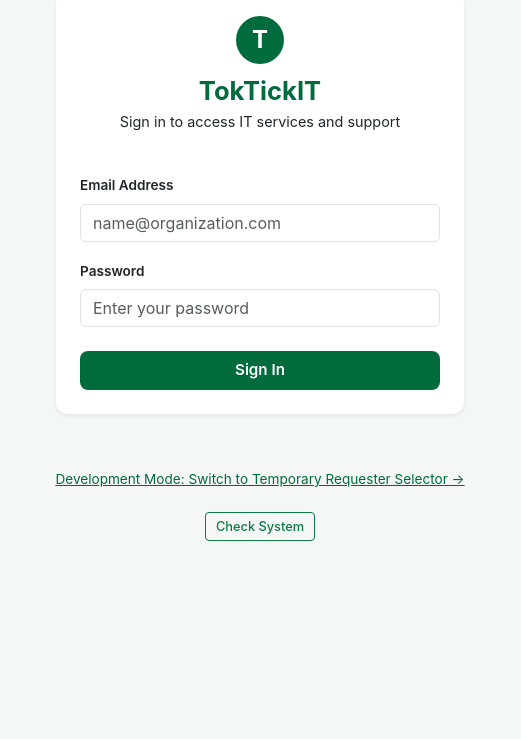
Test case: App › shows Online and the seeded categories on success
Click the button "Check System" at (260, 527), box x1=205 y1=512 x2=315 y2=542
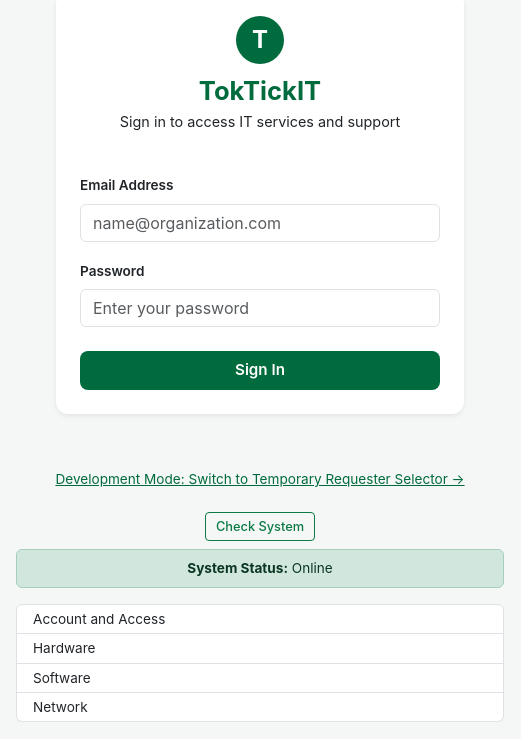
Now the text "System Status:" is shown, box x1=187 y1=560 x2=288 y2=576
Now the text "System Status: Online" is shown, box x1=16 y1=550 x2=504 y2=588
Now the list item "Account and Access" is shown, box x1=16 y1=604 x2=504 y2=634
